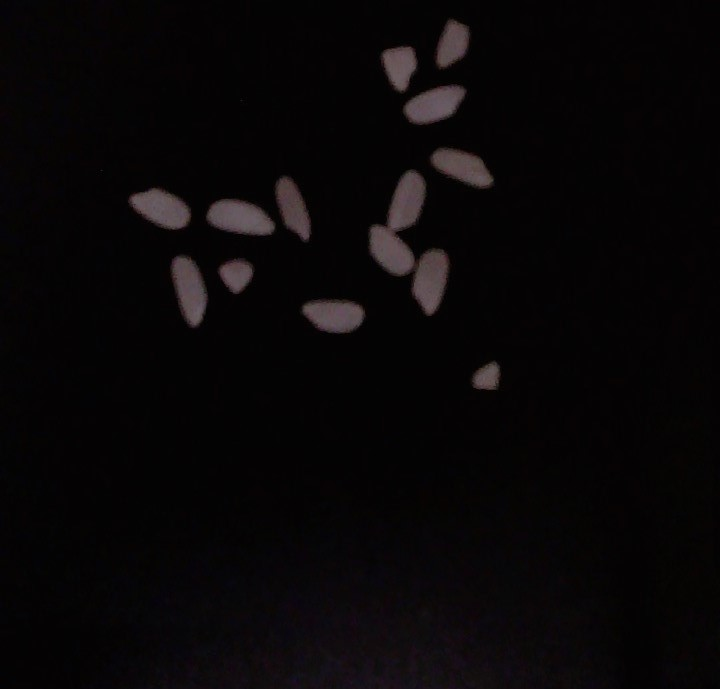broken_grain: (413, 247, 450, 322), (432, 15, 476, 72), (380, 40, 422, 95), (469, 360, 507, 394), (219, 261, 254, 295)
complete_grain: (427, 145, 498, 200), (125, 182, 194, 234), (392, 84, 471, 127), (166, 250, 208, 329), (206, 197, 276, 243), (364, 222, 416, 282), (274, 173, 317, 243), (298, 296, 367, 337), (388, 165, 425, 232)
